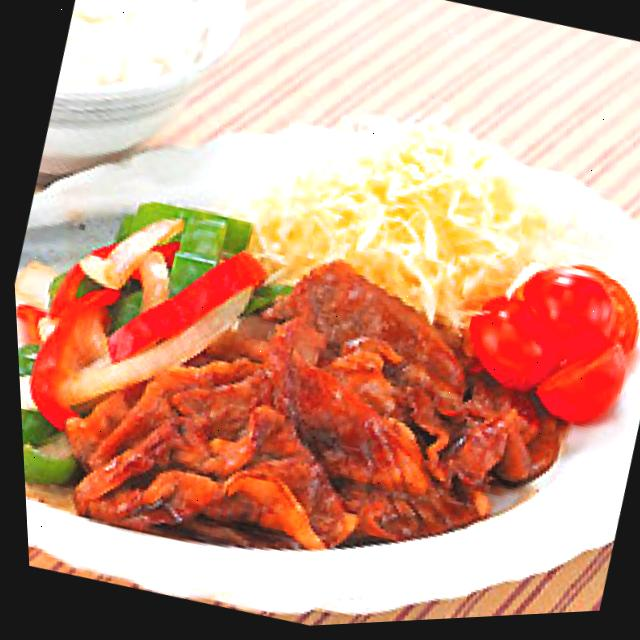猪肉菜式: (4, 80, 640, 640)
